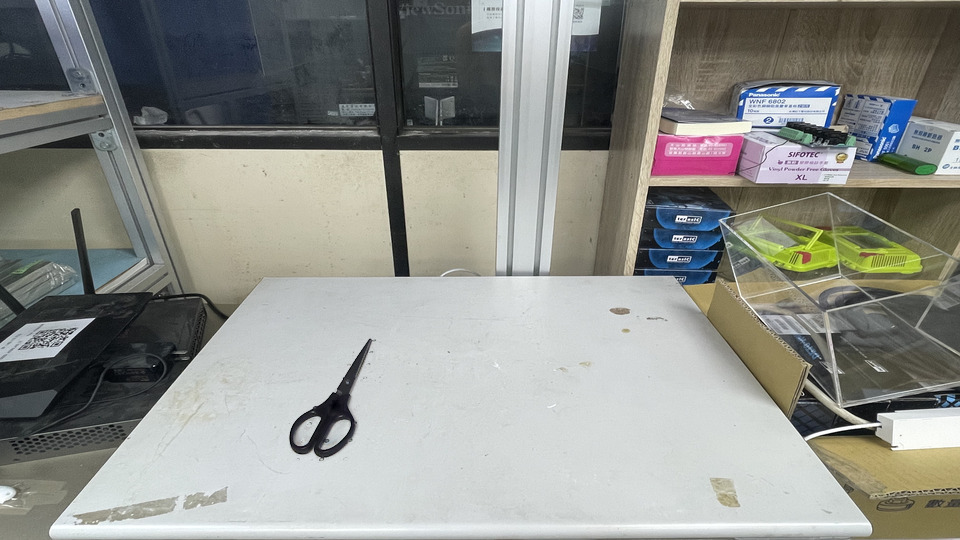blade: (337, 338, 372, 393)
round_grasp: (289, 392, 362, 457)
